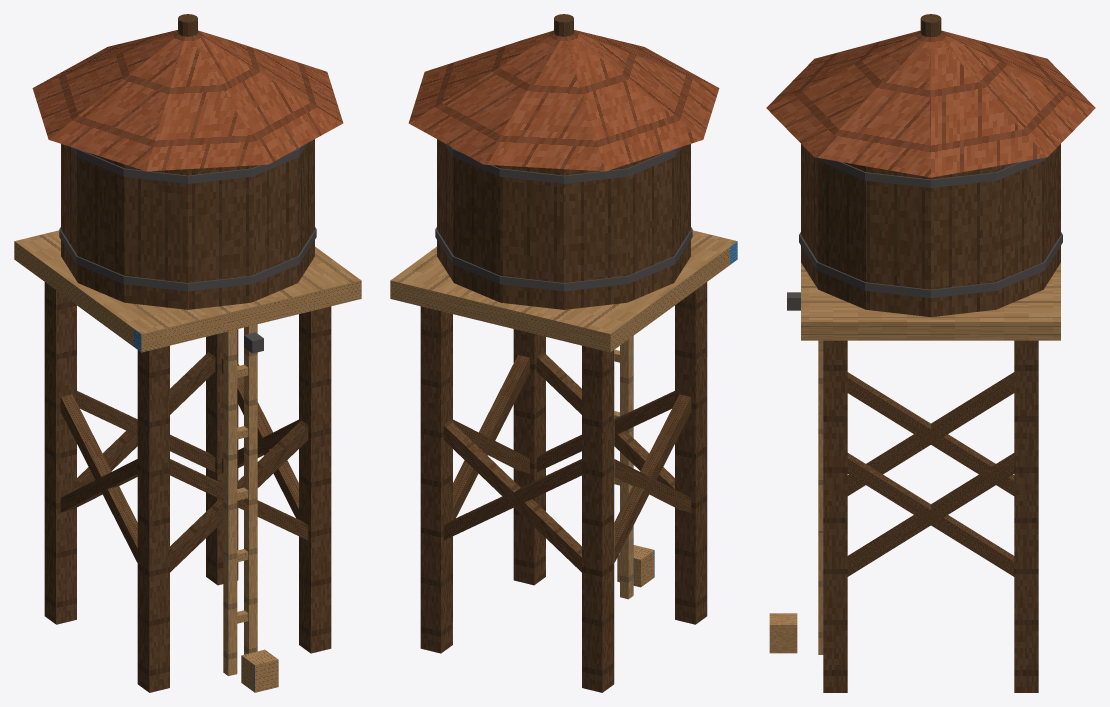
The model's file is water_tower.glb.
The picture shows the model from 3 angles, left to right: view 1: azimuth 30°, elevation 25°; view 2: azimuth 150°, elevation 25°; view 3: azimuth 270°, elevation 25°; orthographic projection. The views are drawn at different scales.
Visible parts, largest first — view 1: Dach, Tank, Plattform, Bein-0.55-0.55, Bein0.55-0.55, Bein-0.550.55, Leiter0.3, Leiter0.44, Bein0.550.55, StrebeV1b, StrebeS0, TankB1 (+8 smaller); view 2: Dach, Tank, Plattform, Bein-0.550.55, Bein0.550.55, Bein-0.55-0.55, Bein0.55-0.55, StrebeV0b, StrebeS1b, StrebeS0b, TankB1, StrebeV1 (+7 smaller); view 3: Dach, Tank, Plattform, Bein0.55-0.55, Bein0.550.55, StrebeS0b, StrebeS1, StrebeS0, StrebeS1b, TankB1, TankB2, Leiter0.44 (+1 smaller).
Boxes of the visible parts, bbox=[...] form: Dach: bbox=[32, 30, 343, 171]; Tank: bbox=[61, 139, 314, 309]; Plattform: bbox=[14, 230, 361, 352]; Bein-0.55-0.55: bbox=[137, 345, 169, 692]; Bein0.55-0.55: bbox=[299, 306, 331, 653]; Bein-0.550.55: bbox=[44, 282, 76, 624]; Leiter0.3: bbox=[223, 329, 237, 675]; Leiter0.44: bbox=[244, 324, 257, 654]; Bein0.550.55: bbox=[206, 329, 238, 585]; StrebeV1b: bbox=[170, 420, 308, 572]; StrebeS0: bbox=[60, 394, 137, 562]; TankB1: bbox=[59, 227, 316, 291]; Dach: bbox=[408, 30, 719, 171]; Tank: bbox=[437, 139, 690, 309]; Plattform: bbox=[390, 230, 737, 352]; Bein-0.550.55: bbox=[582, 345, 614, 692]; Bein0.550.55: bbox=[420, 306, 452, 653]; Bein-0.55-0.55: bbox=[675, 282, 707, 624]; Bein0.55-0.55: bbox=[513, 329, 545, 585]; StrebeV0b: bbox=[443, 420, 581, 572]; StrebeS1b: bbox=[614, 394, 691, 562]; StrebeS0b: bbox=[453, 355, 529, 519]; TankB1: bbox=[435, 227, 692, 291]; StrebeV1: bbox=[443, 459, 581, 540]; Dach: bbox=[766, 30, 1095, 177]; Tank: bbox=[801, 144, 1060, 316]; Plattform: bbox=[801, 263, 1060, 340]; Bein0.55-0.55: bbox=[823, 340, 847, 692]; Bein0.550.55: bbox=[1014, 340, 1038, 692]; StrebeS0b: bbox=[847, 453, 1014, 576]; StrebeS1: bbox=[847, 453, 1014, 576]; StrebeS0: bbox=[847, 372, 1014, 495]; StrebeS1b: bbox=[847, 372, 1014, 495]; TankB1: bbox=[799, 232, 1062, 298]; TankB2: bbox=[815, 157, 1046, 187]; Leiter0.44: bbox=[818, 340, 823, 654].
Size of the model in its own units: 1.9 by 4 by 1.9.
Materials: 4 (3 with a texture image).
